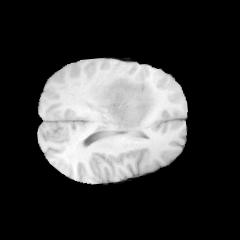glioma: (96, 77, 160, 129)
